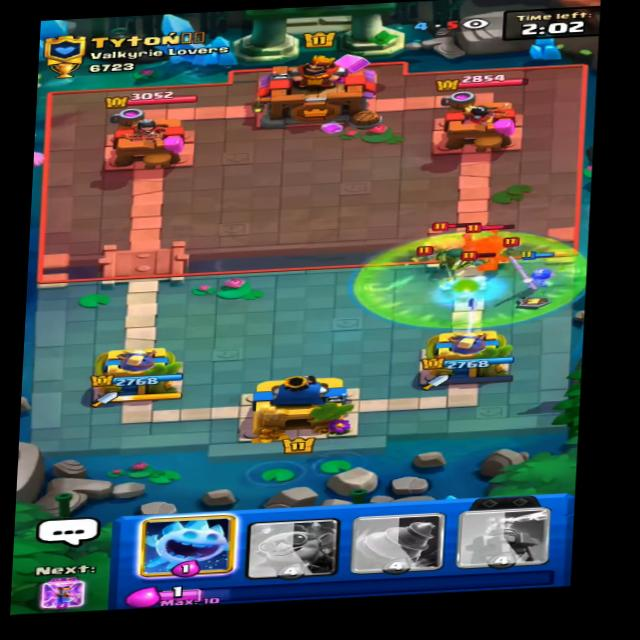Bat: (494, 239, 529, 261), (460, 254, 496, 275)
Nightwitch: (427, 228, 471, 276)
Prince: (466, 219, 516, 273)
